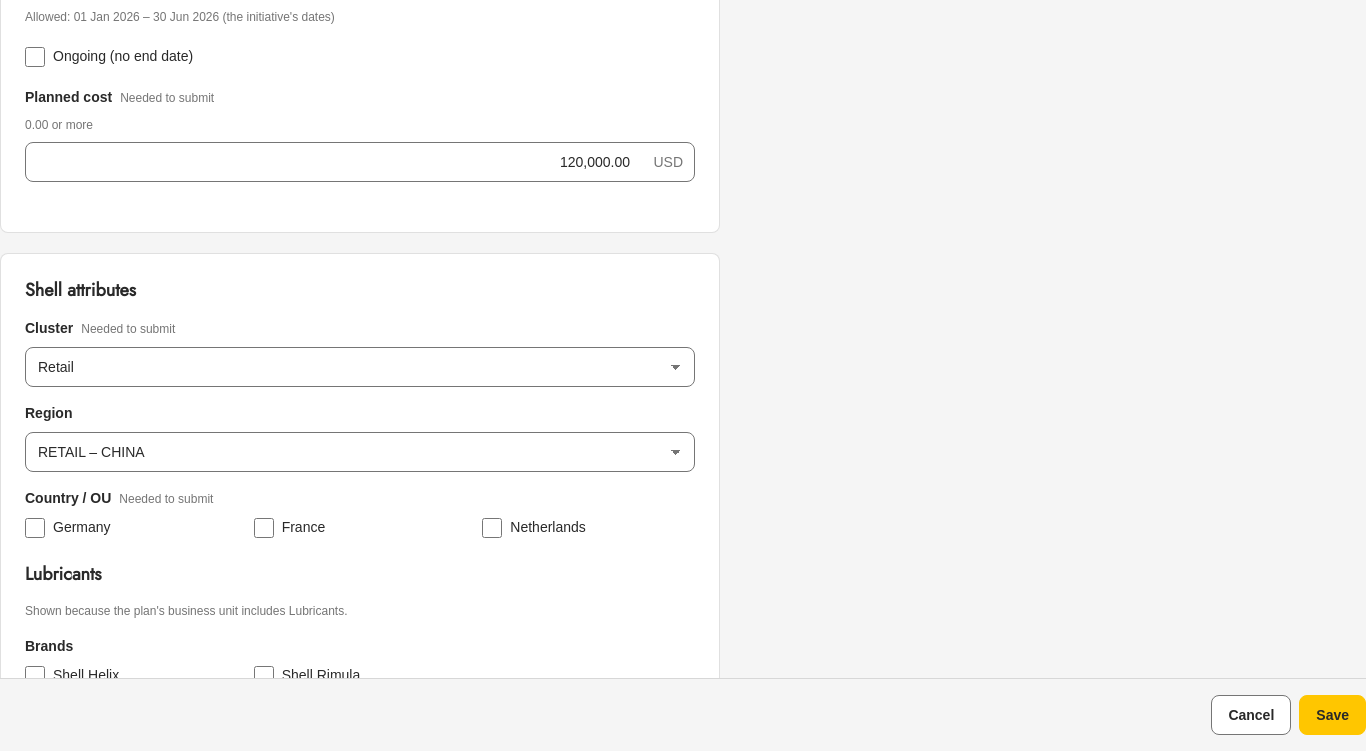
it: ActivityFormPage, Shell attributes and goals (feature 006, US3) › lists the dependent values a save would clear, then saves (FR-016)
This screenshot has width=1366, height=751.
(page scrolled)
Select "B2B" in the dropdown labelled "Cluster" at [360, 367], box [25,347,695,387]
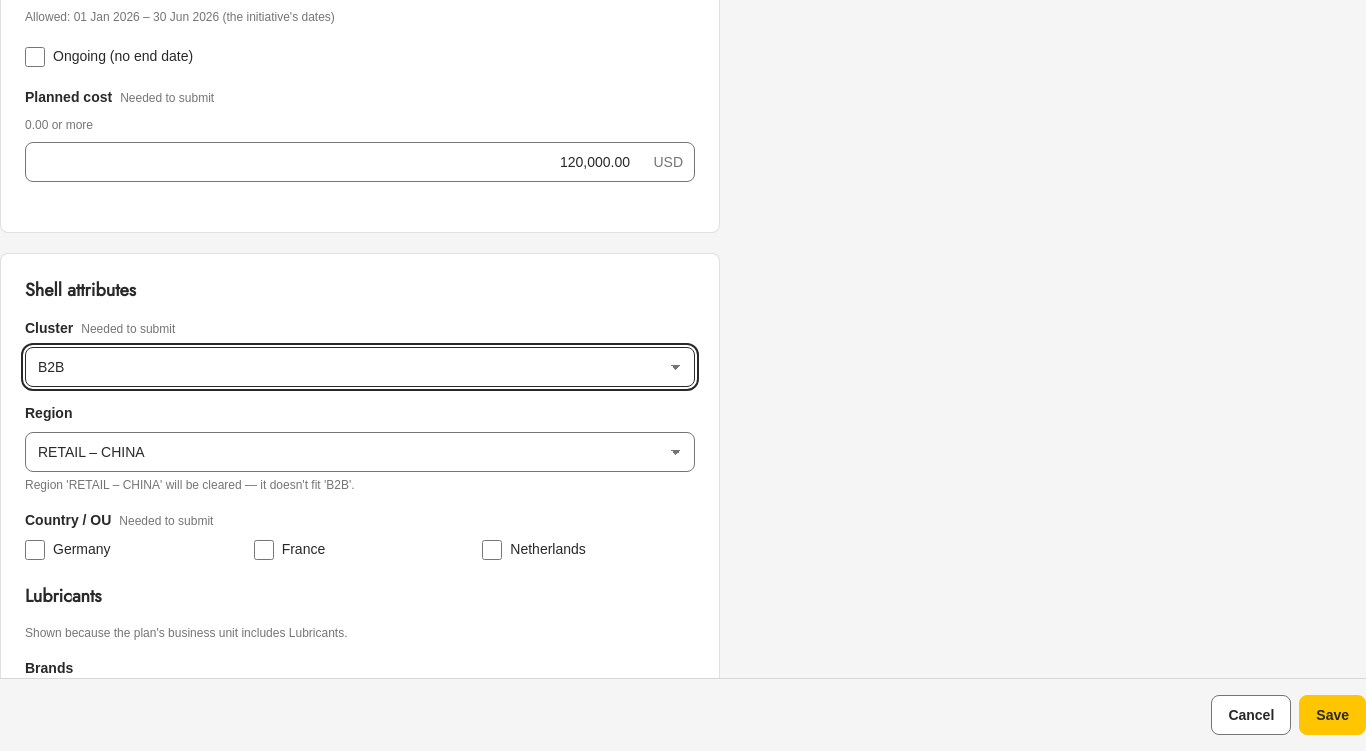
Click the button "Save".
click(1333, 715)  # box [1299,695,1365,735]
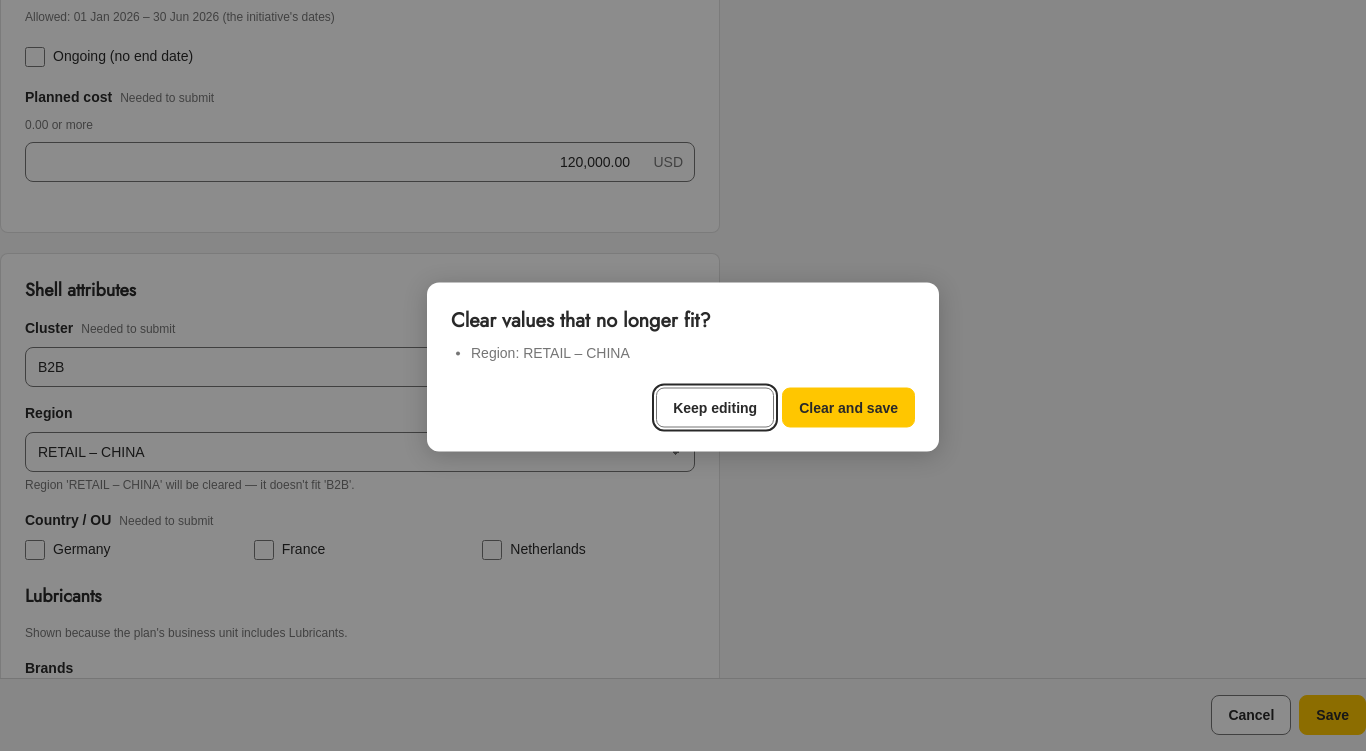
Check: the dialog "Clear values that no longer fit?" shows "Region: RETAIL – CHINA", box [427,282,939,452]
Click the button "Clear and save".
click(849, 408)  # box [782,388,915,428]
(page scrolled)
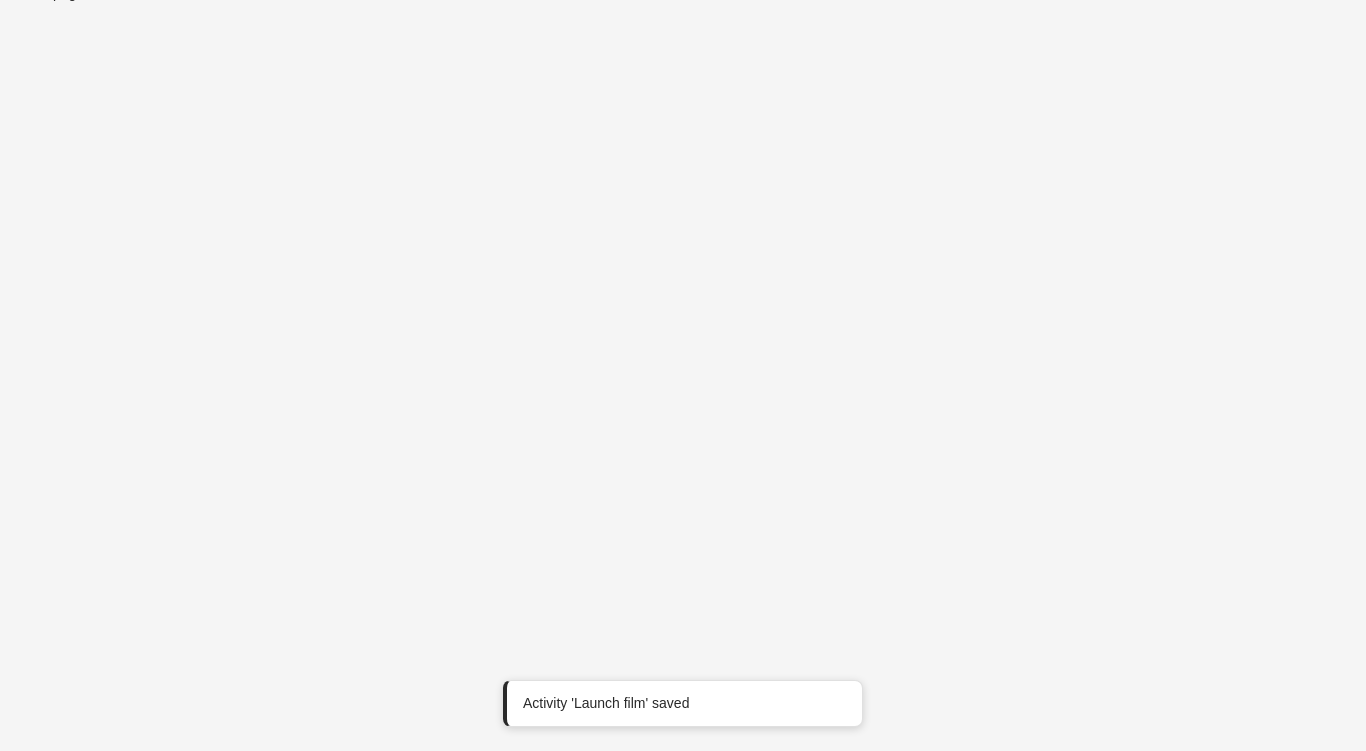
Check: the text "Activity 'Launch film' saved" is shown, box [523,695,689,711]
